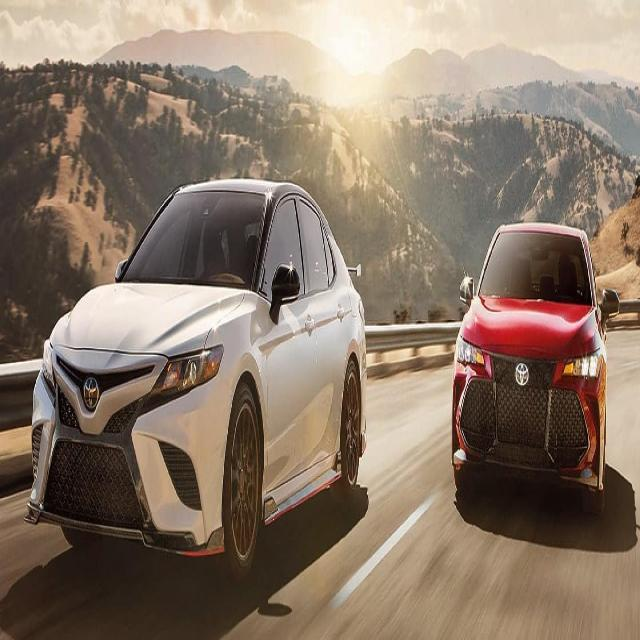pickup: (23, 174, 368, 582), (451, 218, 619, 516)
